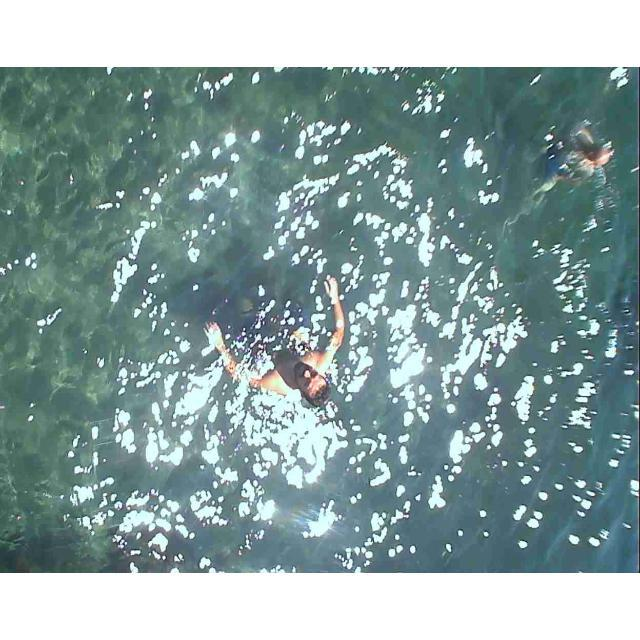human: (203, 279, 356, 426), (543, 104, 609, 193)
